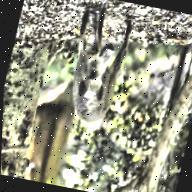boar: (49, 9, 147, 139)
